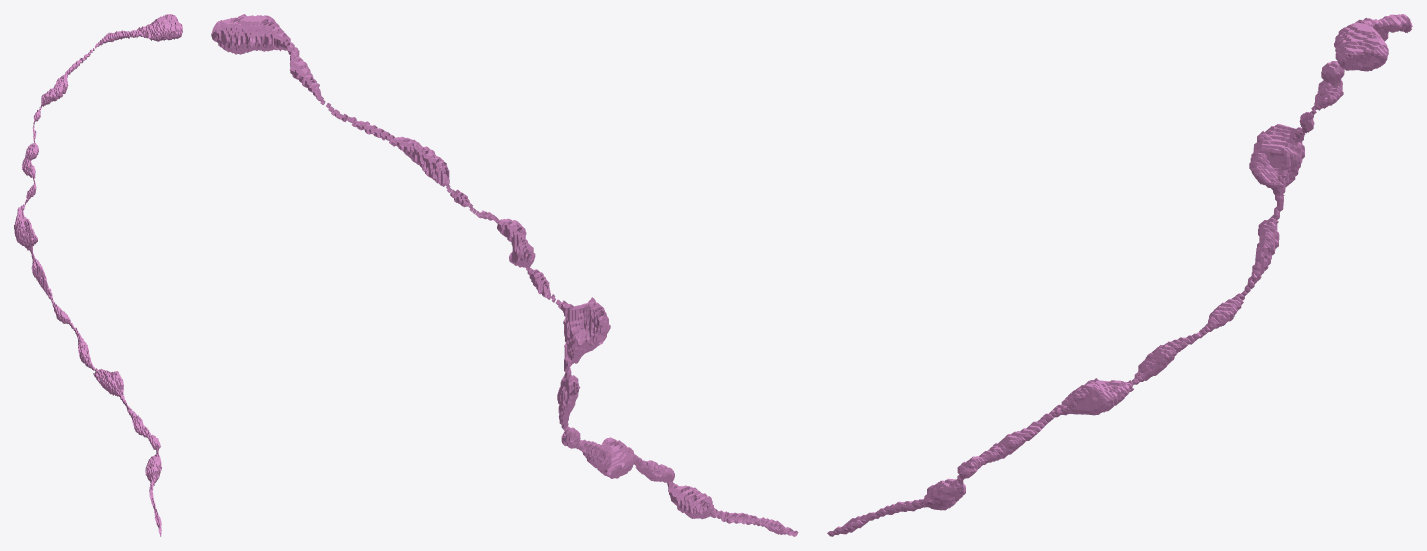
Rendered from SVV_ASKL.gltf.
The picture shows the model from 3 angles, left to right: view 1: azimuth 30°, elevation 25°; view 2: azimuth 150°, elevation 25°; view 3: azimuth 270°, elevation 25°; orthographic projection. The views are drawn at different scales.
Parts seen in each view (by area): view 1: ASKL; view 2: ASKL; view 3: ASKL.
Part boxes in pixels (x1,y1,x2,y2): ASKL: (14,14,182,536); ASKL: (211,14,798,536); ASKL: (827,14,1412,536).
Bounding box in the file's own units: 85509 × 156984 × 130296.
